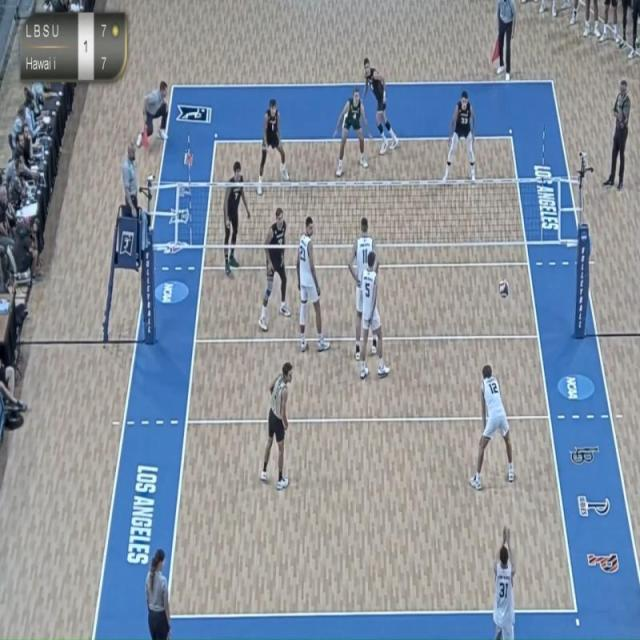volleyball: (497, 275, 511, 302)
